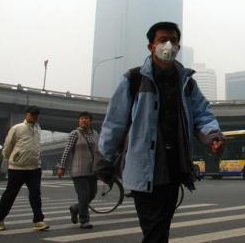person: (96, 20, 225, 243), (3, 103, 52, 233), (56, 111, 104, 232)
